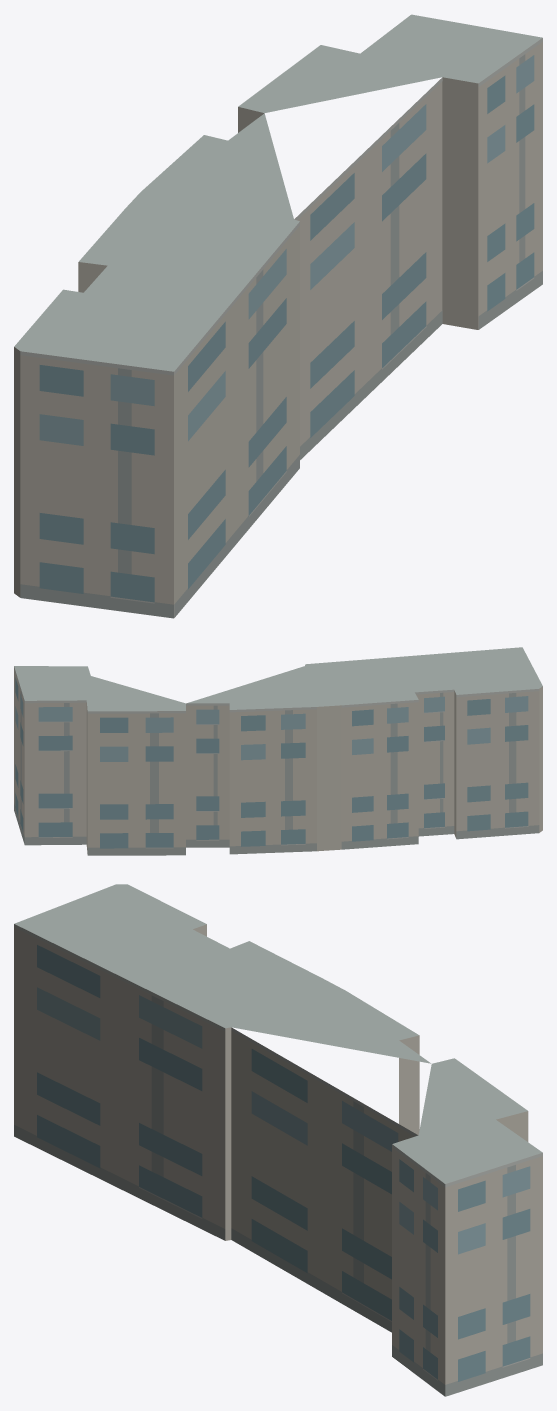
File: survey-upis-32809240.glb
3 renders of one model, top to bottom at view 1: azimuth 30°, elevation 25°; view 2: azimuth 150°, elevation 25°; view 3: azimuth 270°, elevation 25°, orthographic. The views are drawn at different scales.
Parts seen in each view (by area): view 1: survey-upis-32809240.tmp; view 2: survey-upis-32809240.tmp; view 3: survey-upis-32809240.tmp.
Boxes of the visible parts, x1=… form: survey-upis-32809240.tmp: x1=14, y1=14, x2=542, y2=618; survey-upis-32809240.tmp: x1=14, y1=647, x2=542, y2=855; survey-upis-32809240.tmp: x1=14, y1=884, x2=542, y2=1396.
Bounding box in the file's own units: 46.15 × 15.25 × 34.38.
